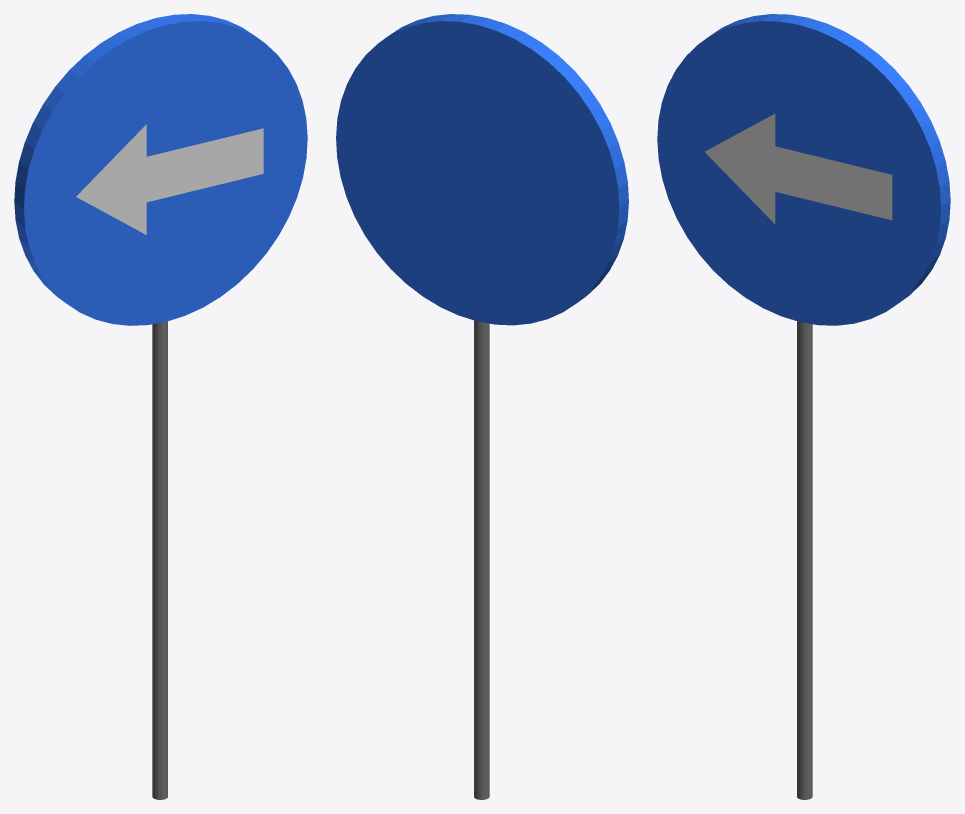
The model's file is signs circle blue white arrow left.fbx.
3 renders of one model, left to right at view 1: azimuth 30°, elevation 25°; view 2: azimuth 150°, elevation 25°; view 3: azimuth 330°, elevation 25°, orthographic.
Parts seen in each view (by area): view 1: Cube.014; view 2: Cube.014; view 3: Cube.014.
Part boxes in pixels (left/top/right/bottom): Cube.014: left=14, top=14, right=307, bottom=799; Cube.014: left=336, top=14, right=628, bottom=799; Cube.014: left=657, top=14, right=950, bottom=799.
Bounding box in the file's own units: 172 × 12.63 × 450.
